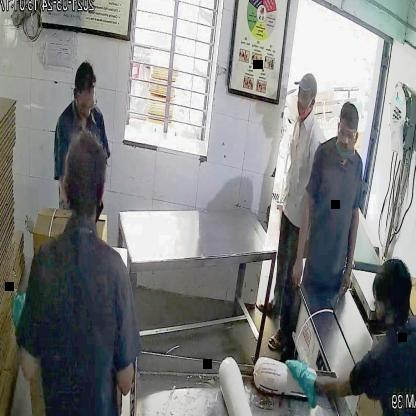goggles: (335, 125, 361, 144)
no_goggles: (295, 89, 317, 106)
